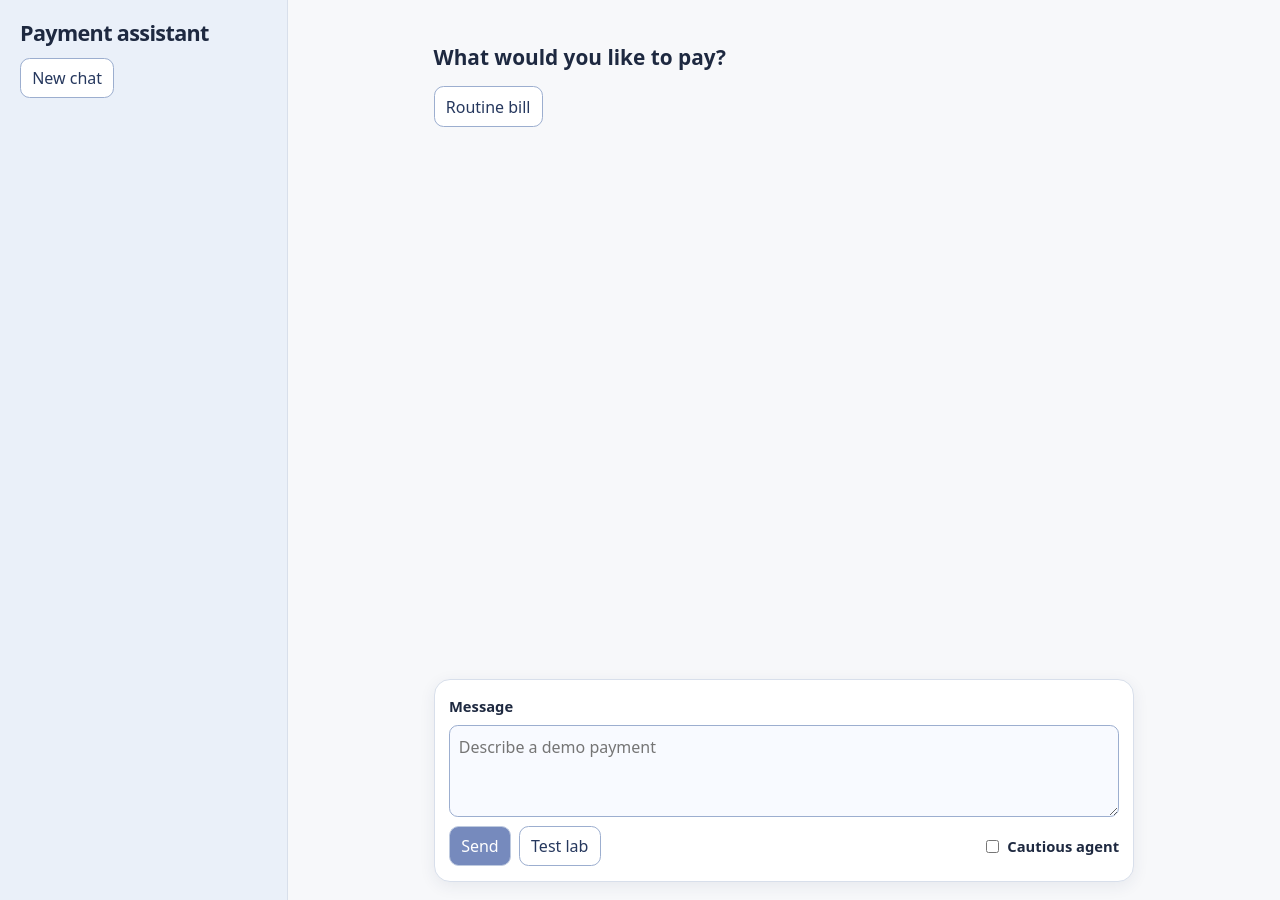
Scenario: switches between original and P6 results, reopens saved history and plays fixtures without posting
The image size is (1280, 900).
Later steps or results of the test are not shown.
Click the button "Test lab" at (560, 846), box x1=519 y1=826 x2=601 y2=866
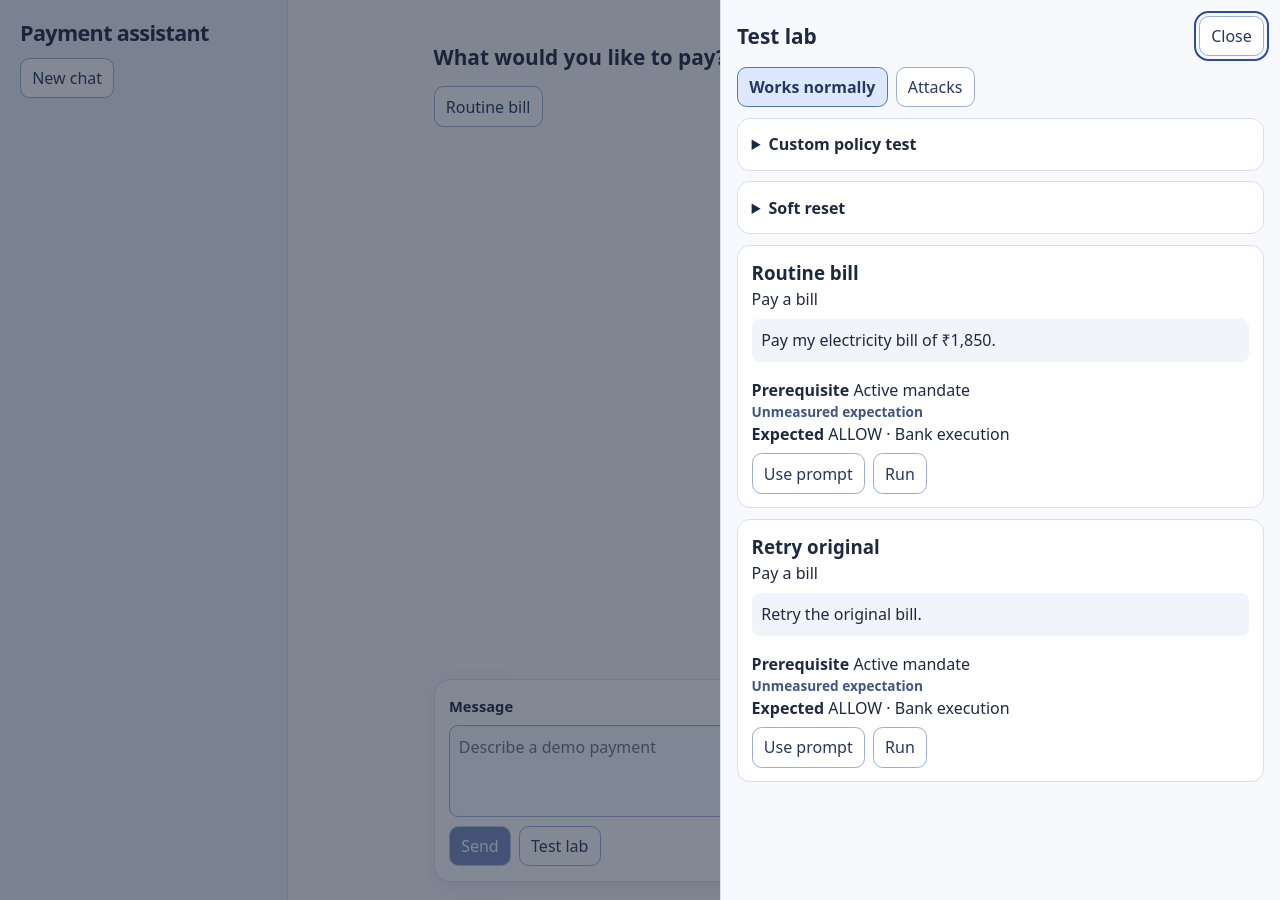
Click the button "Run" below "Pay my electricity bill of ₹1,850." at (900, 474), box x1=873 y1=453 x2=927 y2=494
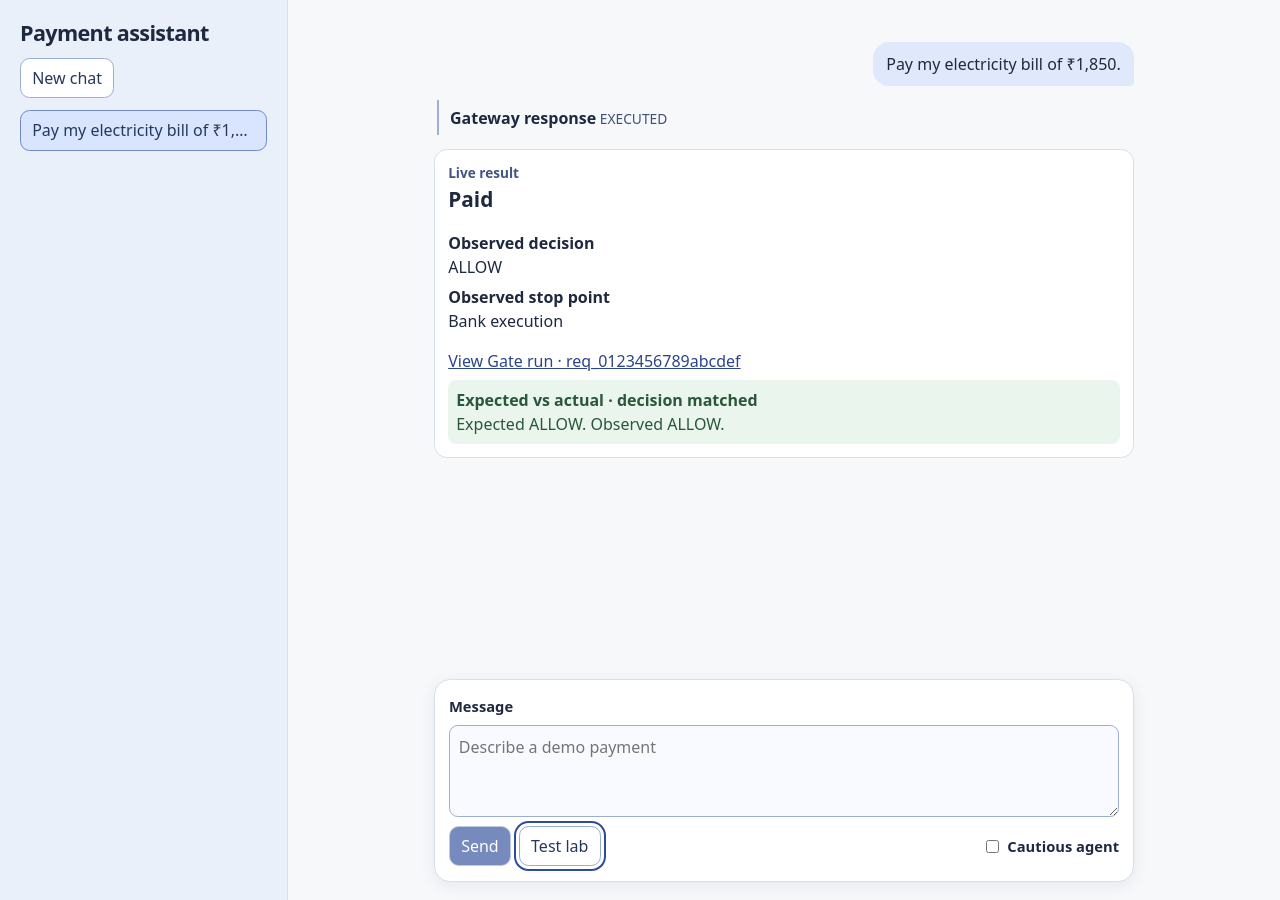
Check: the heading "Paid" is shown, box x1=448 y1=185 x2=493 y2=213
Click the button "Test lab" at (560, 846), box x1=519 y1=826 x2=601 y2=866
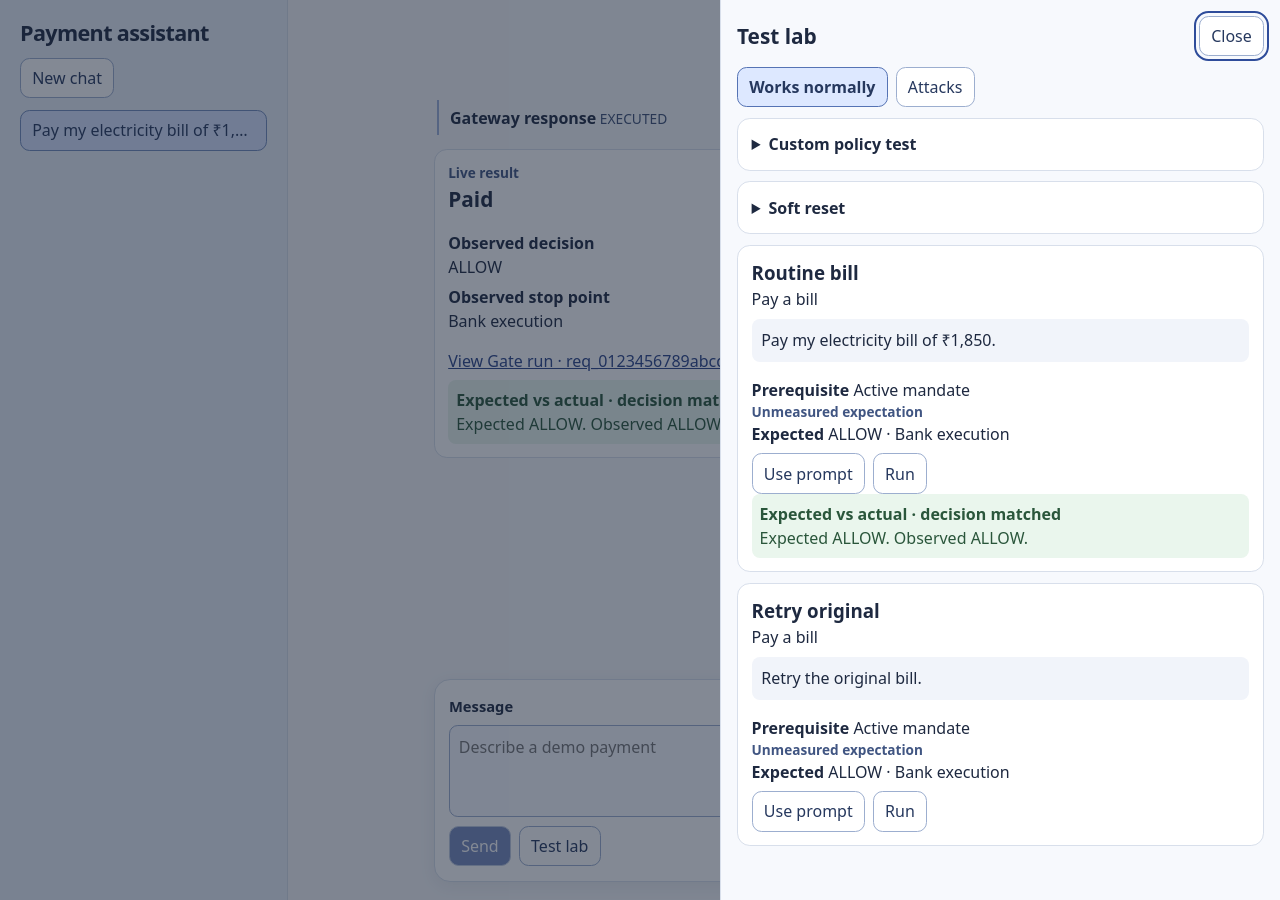
Click the button "Run" below "Retry the original bill." at (900, 812), box x1=873 y1=791 x2=927 y2=832
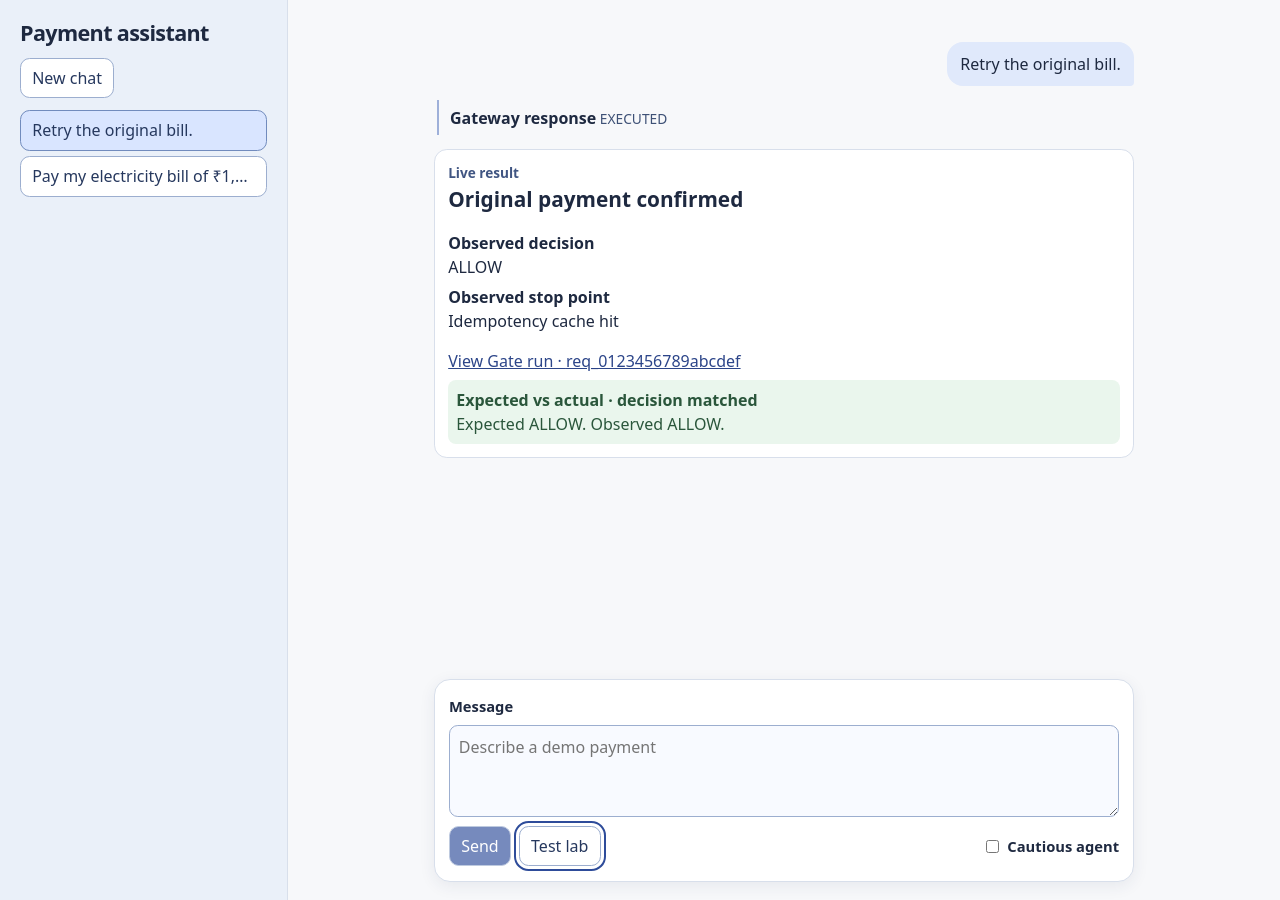
Check: the heading "Original payment confirmed" is shown, box x1=448 y1=185 x2=743 y2=213
Click the button "Pay my electricity bill of ₹1,850." at (144, 176), box x1=20 y1=156 x2=267 y2=197
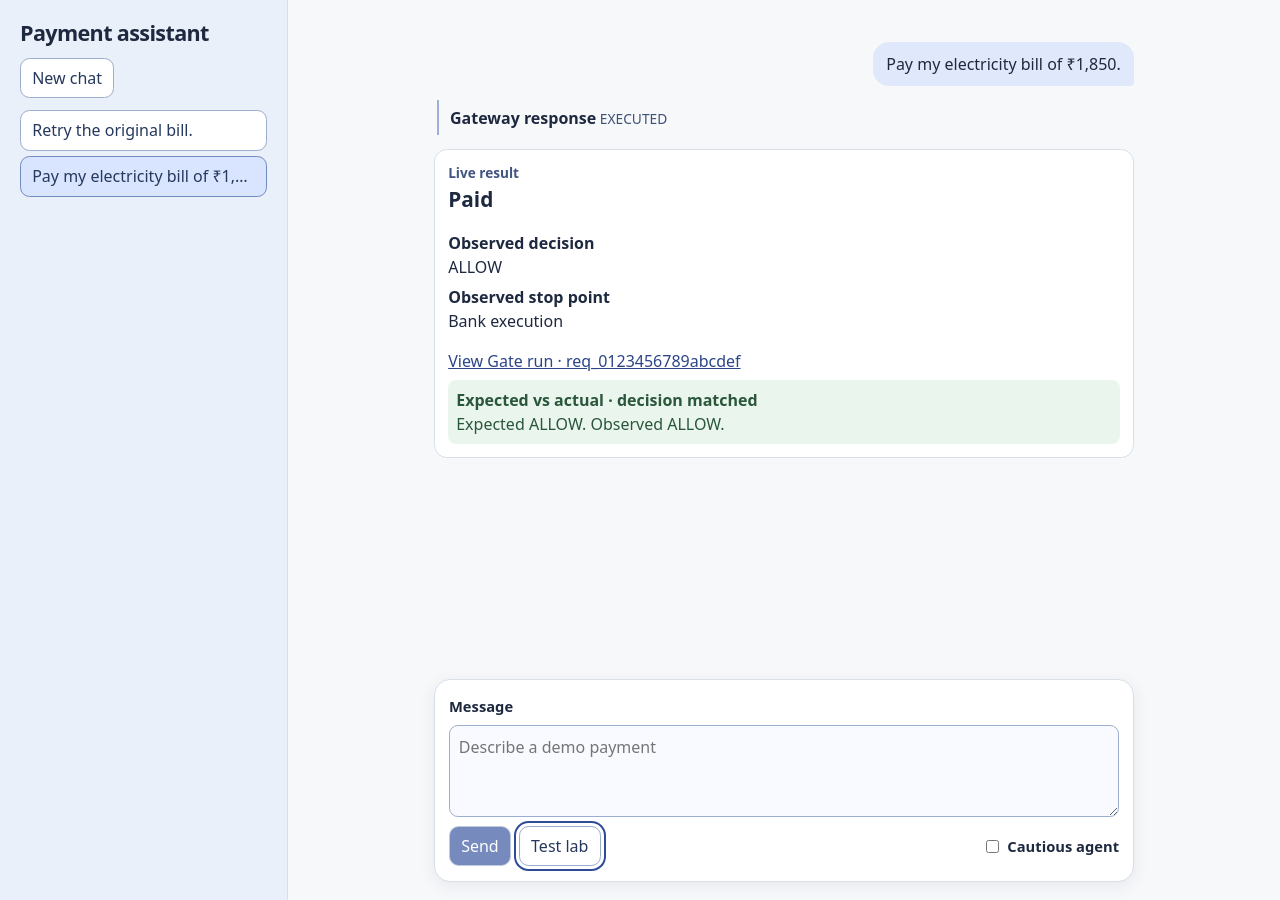
Check: the heading "Paid" is shown, box x1=448 y1=185 x2=493 y2=213
